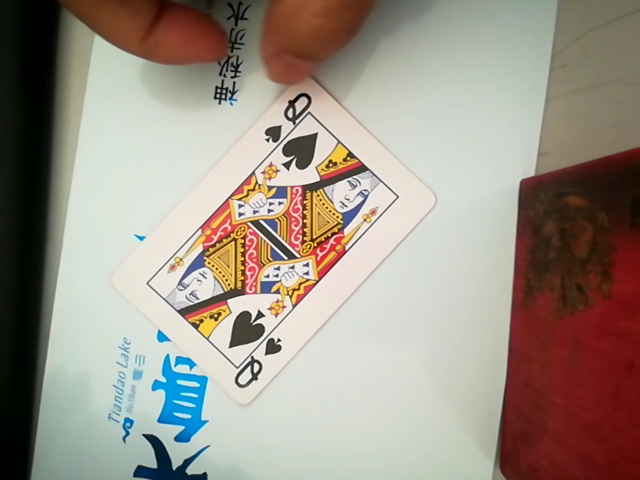ht q: (135, 75, 425, 411)
